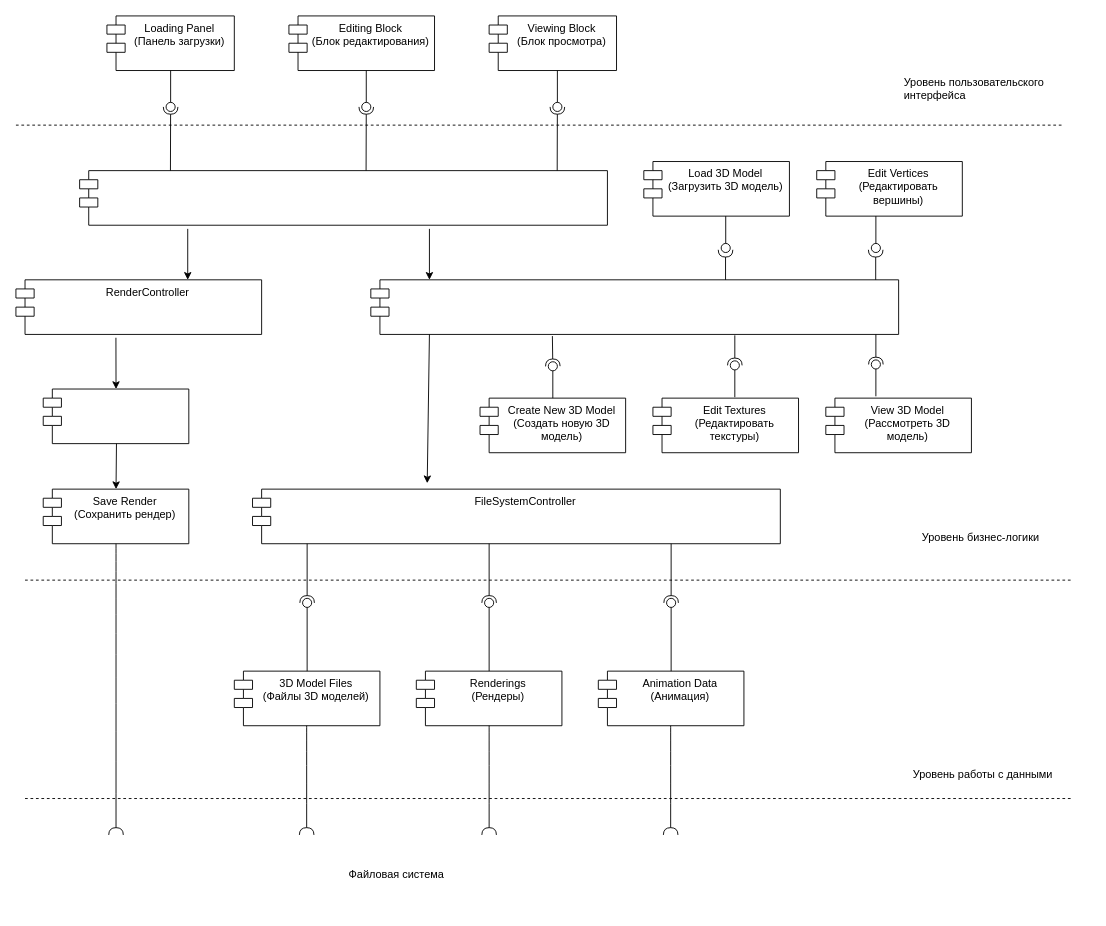
Image size: 1106x926. Some labels were removed from this diagram. The shapes that lost their labels are listed below. From the top down, each one's centre as x and y in pixels, then its label:
the point at 343,197: AppController
the point at 634,306: 3D ModelController
the point at 115,416: Render (Сделать рендер)
